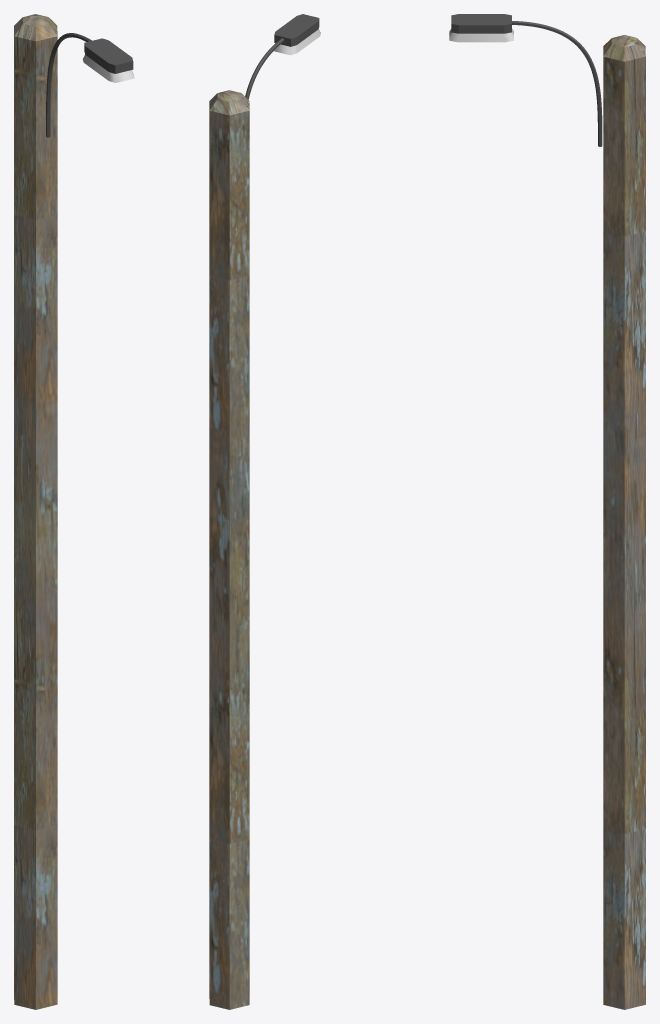
Rendered from StreetLamp.fbx.
3 renders of one model, left to right at view 1: azimuth 30°, elevation 25°; view 2: azimuth 150°, elevation 25°; view 3: azimuth 270°, elevation 25°, orthographic. The views are drawn at different scales.
Visible parts, largest first — view 1: StreetLamp; view 2: StreetLamp; view 3: StreetLamp.
Boxes of the visible parts, left/top/right/bottom form: StreetLamp: left=14, top=14, right=134, bottom=1009; StreetLamp: left=209, top=14, right=320, bottom=1009; StreetLamp: left=449, top=14, right=645, bottom=1009.
Bounding box in the file's own units: 176 × 2410 × 565.
